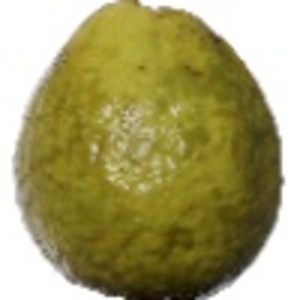goiaba: (10, 4, 287, 297)
